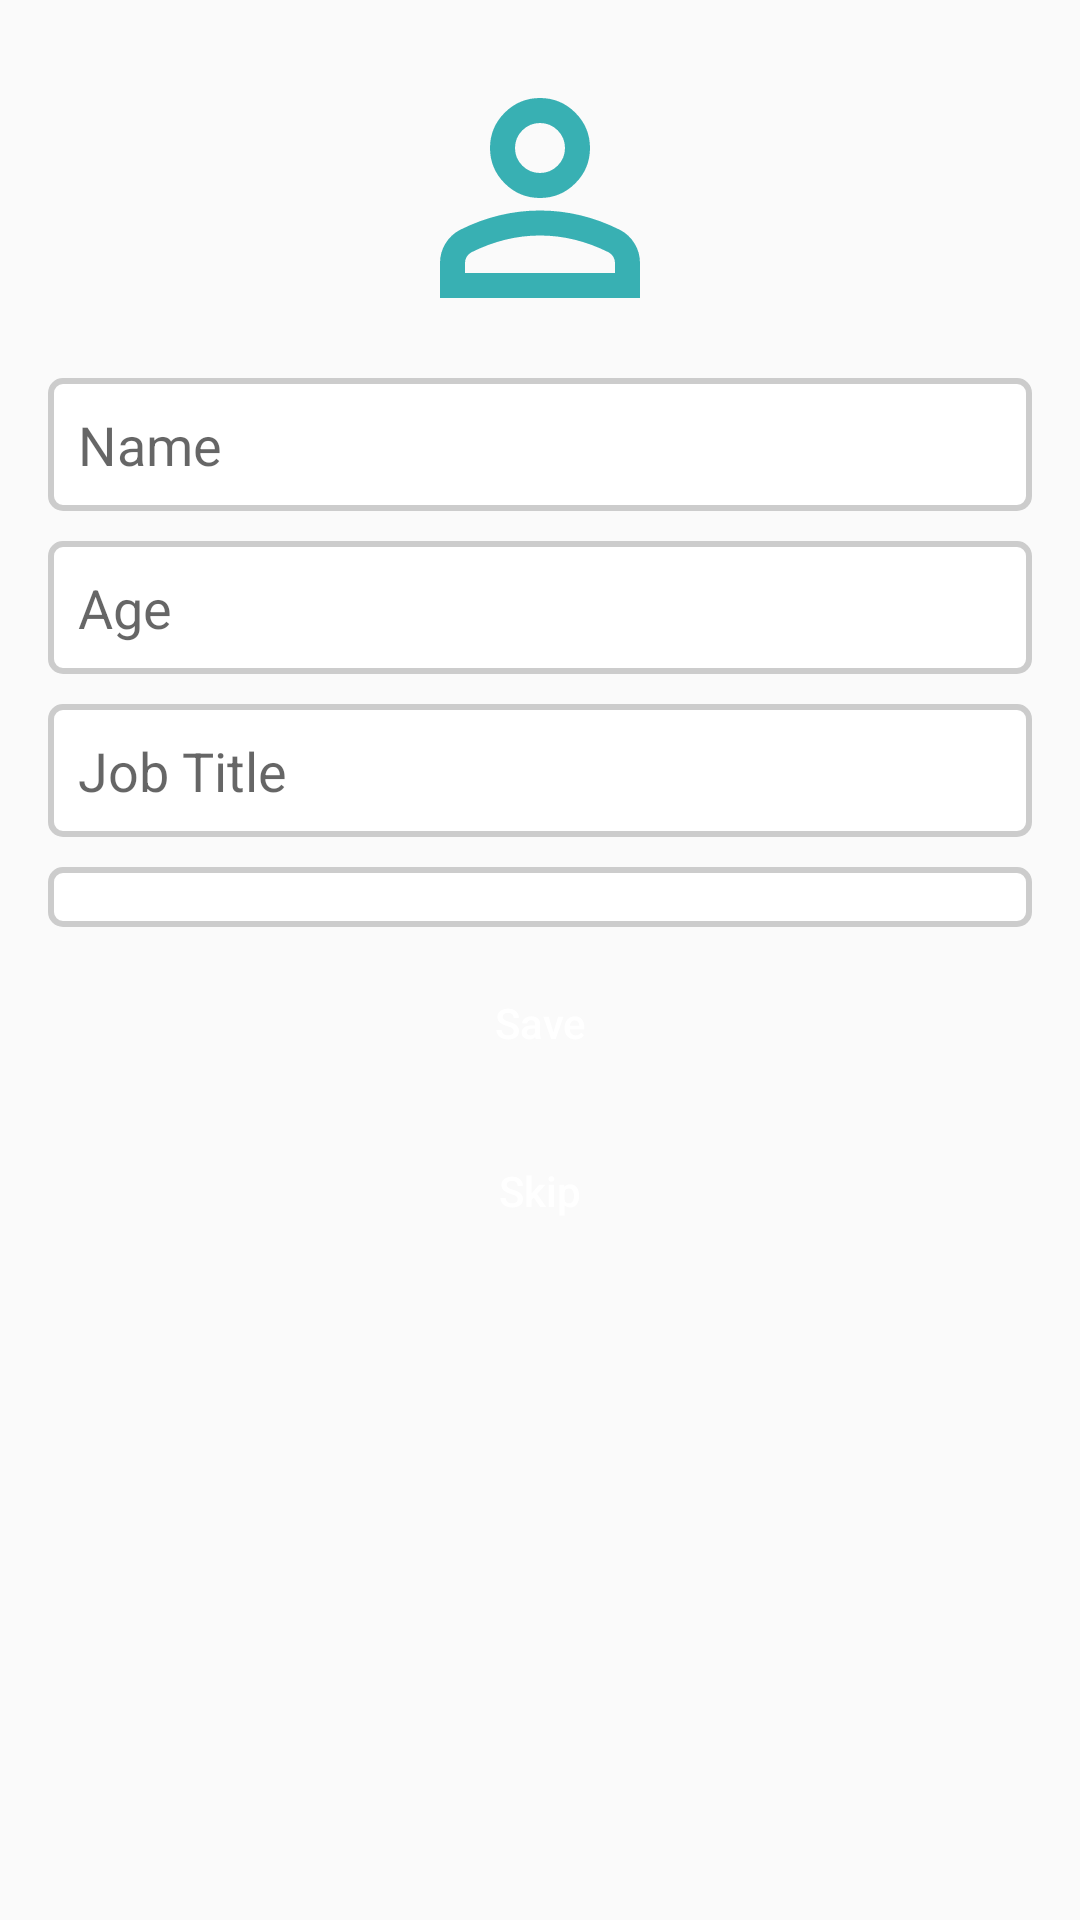

Where icons sit on this 1080 × 1920 app screen, as (x1, y1, x2, y2):
Person: (440, 98, 640, 298)
